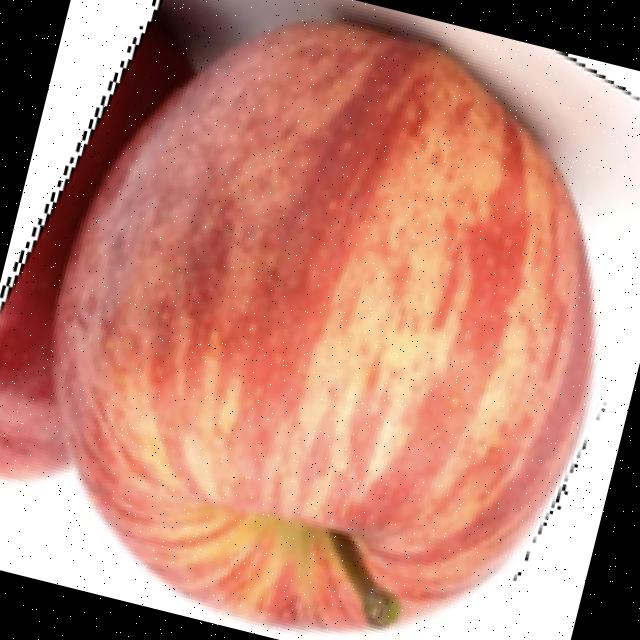apple: (0, 0, 606, 638)
